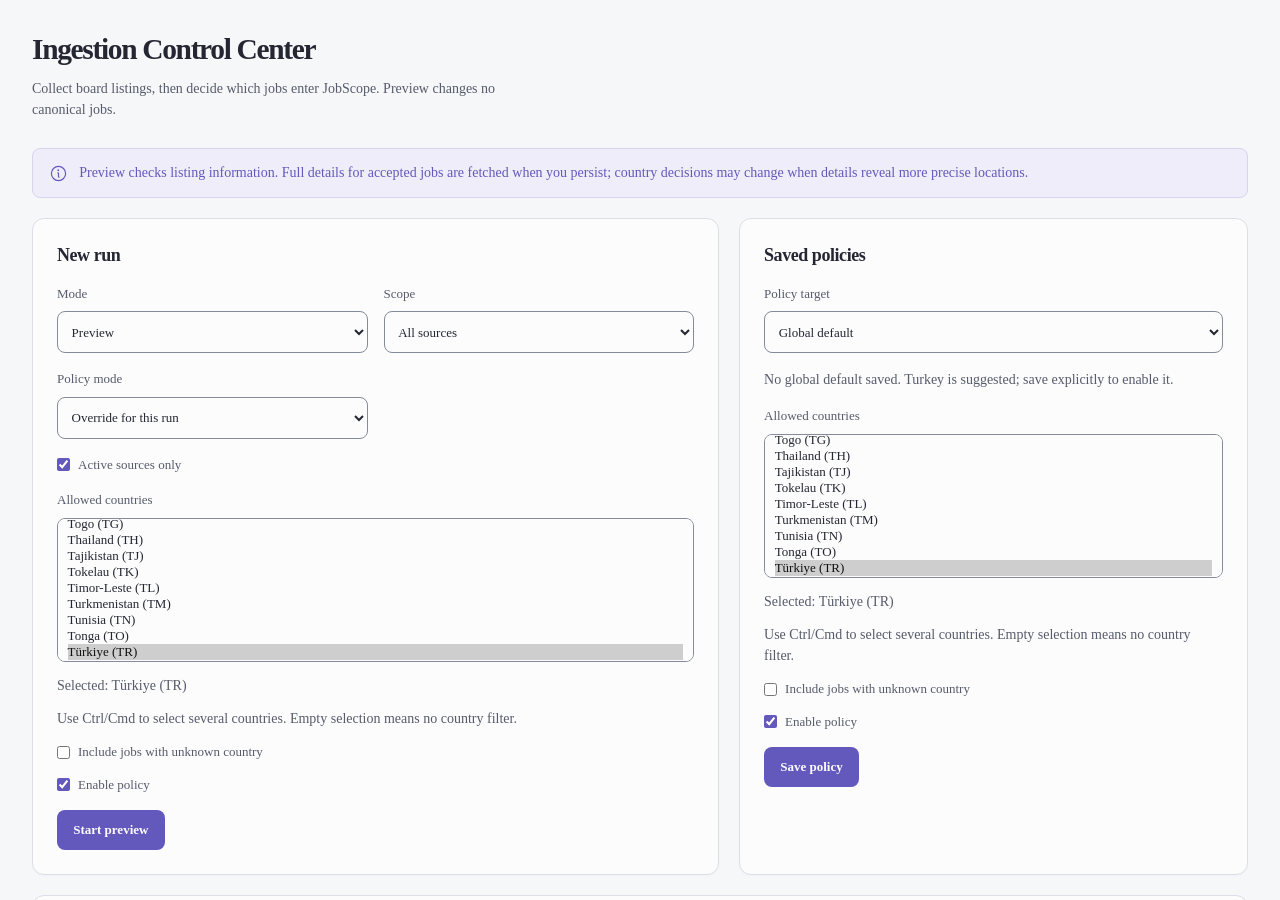
Test: Ingestion control center › explains that preview lists are enriched when persisting
This screenshot has width=1280, height=900.
(page scrolled)
Check: the text "No global default saved" is shown, box 764,372 -> 1174,387
Check: the text "Preview checks listing information" is shown, box 79,165 -> 1028,180
Select "Persist accepted jobs" in the dropdown labelled "Mode" at {"x": 212, "y": 332}, box 57,311 -> 368,353
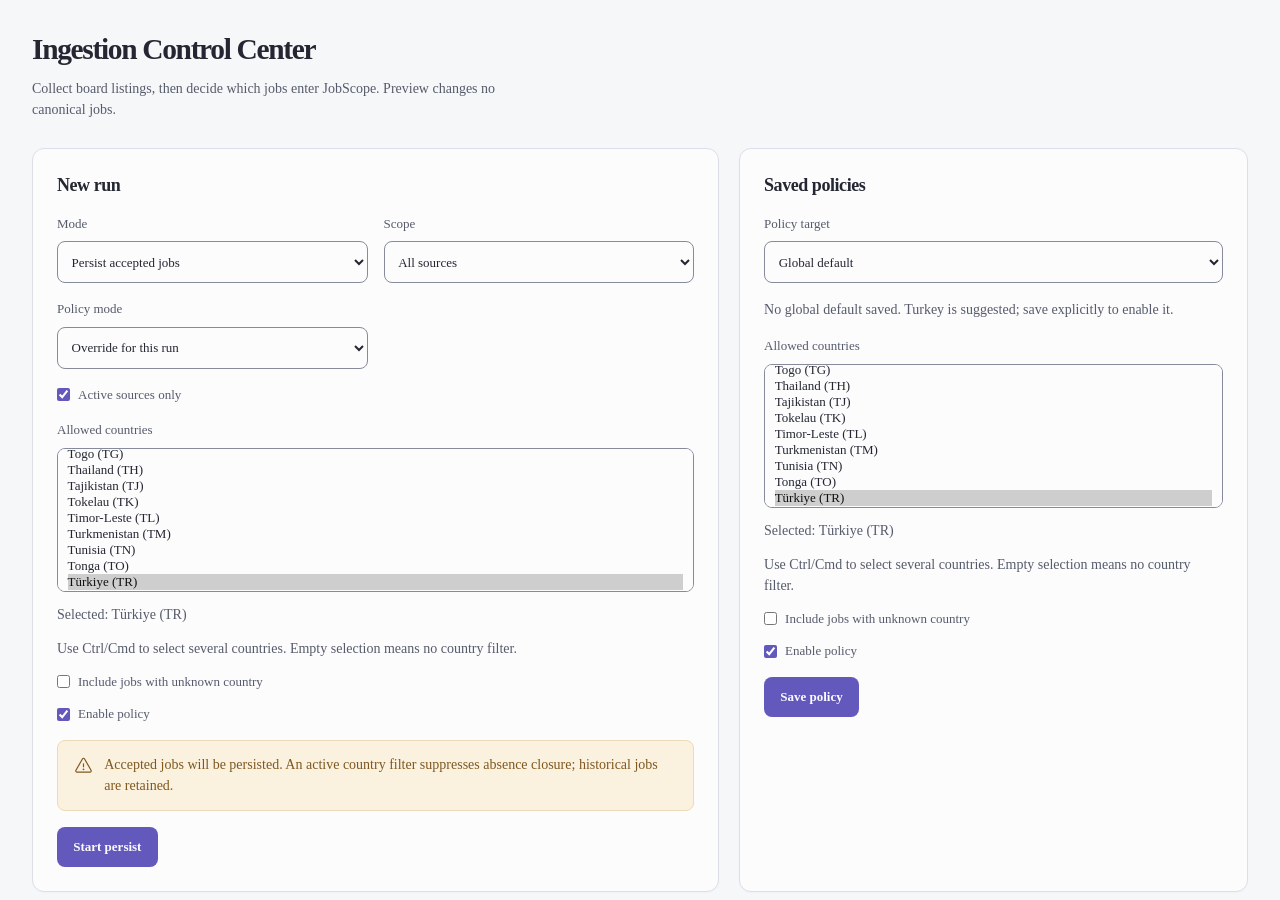
Check: the text "Preview checks listing information" is gone
